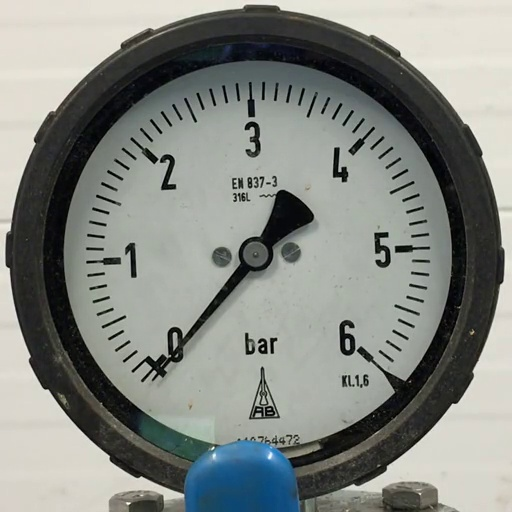base: (235, 235, 272, 271)
circle_plate: (62, 56, 468, 444)
maximum: (357, 346, 374, 362)
minimum: (141, 354, 167, 382)
number: (239, 116, 265, 161), (368, 226, 394, 271), (153, 150, 179, 193), (326, 142, 352, 184), (163, 323, 185, 365), (335, 315, 357, 356), (120, 240, 139, 282)
tip: (150, 375, 157, 383)
